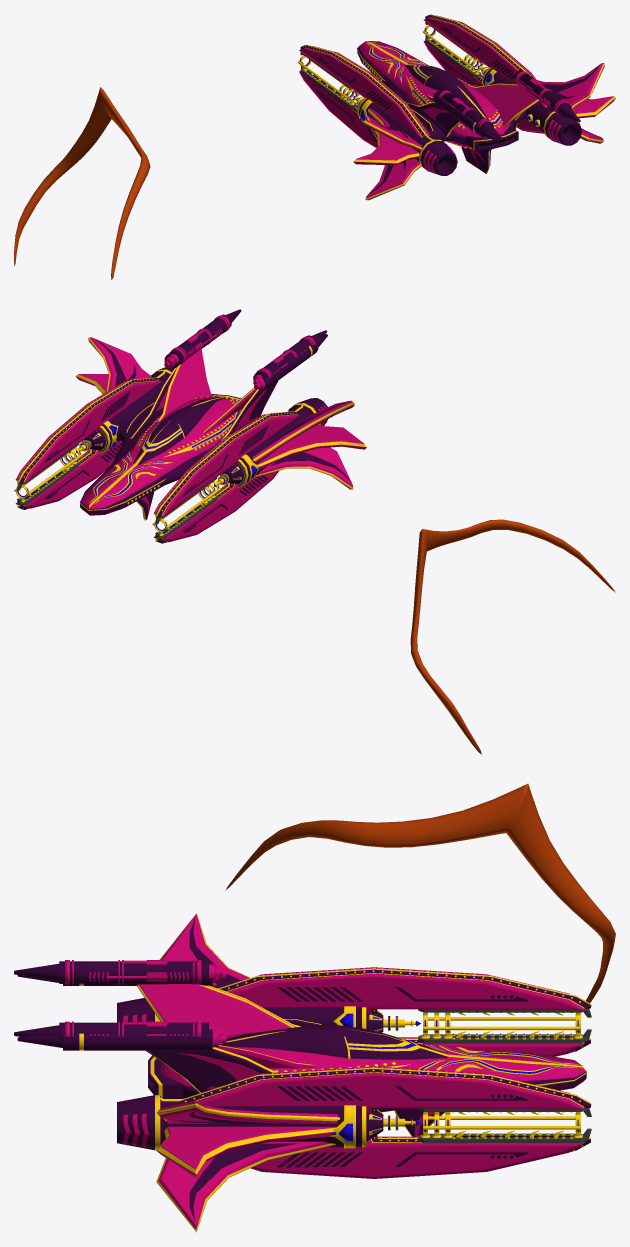
The model's file is AlienStarfighter35.obj.
3 views of the same model, one above another, from view 1: azimuth 30°, elevation 25°; view 2: azimuth 150°, elevation 25°; view 3: azimuth 270°, elevation 25° (orthographic). The views are drawn at different scales.
Visible parts, largest first — view 1: Cylinder.003_Cylinder.005, Roma_Insignia.002_Sphere.021, Sphere_Sphere.002, Cylinder.001_Cylinder.006, Cube.002_Cube.003, Cube.005, Cube.003_Cube.004, Sphere.001_Sphere.003, Cylinder.004_Cylinder.002, Cube.004_Cube.002, Sphere.002_Sphere.004, Cube.006 (+7 smaller); view 2: Cylinder.003_Cylinder.005, Sphere_Sphere.002, Roma_Insignia.002_Sphere.021, Cylinder.001_Cylinder.006, Cube.005, Cube.002_Cube.003, Cube.003_Cube.004, Sphere.001_Sphere.003, Cylinder.004_Cylinder.002, Sphere.002_Sphere.004, Cube.004_Cube.002, Cube.001 (+4 smaller); view 3: Cylinder.003_Cylinder.005, Roma_Insignia.002_Sphere.021, Cylinder.001_Cylinder.006, Sphere_Sphere.002, Cube.003_Cube.004, Cylinder.004_Cylinder.002, Sphere.001_Sphere.003, Cube.002_Cube.003, Cube.006, Cube.005, Cylinder.005_Cylinder.011, Cube.004_Cube.002 (+12 smaller).
Part boxes in pixels (left/top/right/bottom): Cylinder.003_Cylinder.005: left=299, top=14, right=547, bottom=147; Roma_Insignia.002_Sphere.021: left=14, top=87, right=150, bottom=279; Sphere_Sphere.002: left=357, top=41, right=518, bottom=150; Cylinder.001_Cylinder.006: left=353, top=65, right=581, bottom=175; Cube.002_Cube.003: left=353, top=96, right=615, bottom=165; Cube.005: left=364, top=63, right=604, bottom=150; Cube.003_Cube.004: left=426, top=83, right=539, bottom=134; Sphere.001_Sphere.003: left=405, top=64, right=488, bottom=119; Cylinder.004_Cylinder.002: left=436, top=70, right=579, bottom=139; Cube.004_Cube.002: left=365, top=129, right=603, bottom=200; Sphere.002_Sphere.004: left=357, top=41, right=518, bottom=149; Cube.006: left=300, top=22, right=480, bottom=107; Cylinder.003_Cylinder.005: left=15, top=377, right=299, bottom=543; Sphere_Sphere.002: left=80, top=394, right=240, bottom=515; Roma_Insignia.002_Sphere.021: left=410, top=519, right=615, bottom=754; Cylinder.001_Cylinder.006: left=76, top=367, right=327, bottom=487; Cube.005: left=88, top=337, right=354, bottom=462; Cube.002_Cube.003: left=76, top=374, right=366, bottom=469; Cube.003_Cube.004: left=157, top=349, right=256, bottom=433; Sphere.001_Sphere.003: left=133, top=396, right=225, bottom=464; Cylinder.004_Cylinder.002: left=167, top=309, right=327, bottom=384; Sphere.002_Sphere.004: left=80, top=399, right=241, bottom=513; Cube.004_Cube.002: left=254, top=447, right=353, bottom=489; Cube.001: left=130, top=367, right=278, bottom=444; Cylinder.003_Cylinder.005: left=179, top=967, right=591, bottom=1178; Roma_Insignia.002_Sphere.021: left=225, top=783, right=615, bottom=1012; Cylinder.001_Cylinder.006: left=117, top=998, right=420, bottom=1150; Sphere_Sphere.002: left=148, top=1032, right=586, bottom=1098; Cube.003_Cube.004: left=137, top=984, right=318, bottom=1077; Cylinder.004_Cylinder.002: left=14, top=961, right=222, bottom=1039; Sphere.001_Sphere.003: left=219, top=1024, right=448, bottom=1059; Cube.002_Cube.003: left=156, top=1126, right=336, bottom=1177; Cube.006: left=418, top=1008, right=591, bottom=1143; Cube.005: left=156, top=913, right=339, bottom=1123; Cylinder.005_Cylinder.011: left=17, top=963, right=226, bottom=1050; Cube.004_Cube.002: left=156, top=1141, right=336, bottom=1232.
Size of the model in its own units: 12.75 by 4.55 by 8.21.
